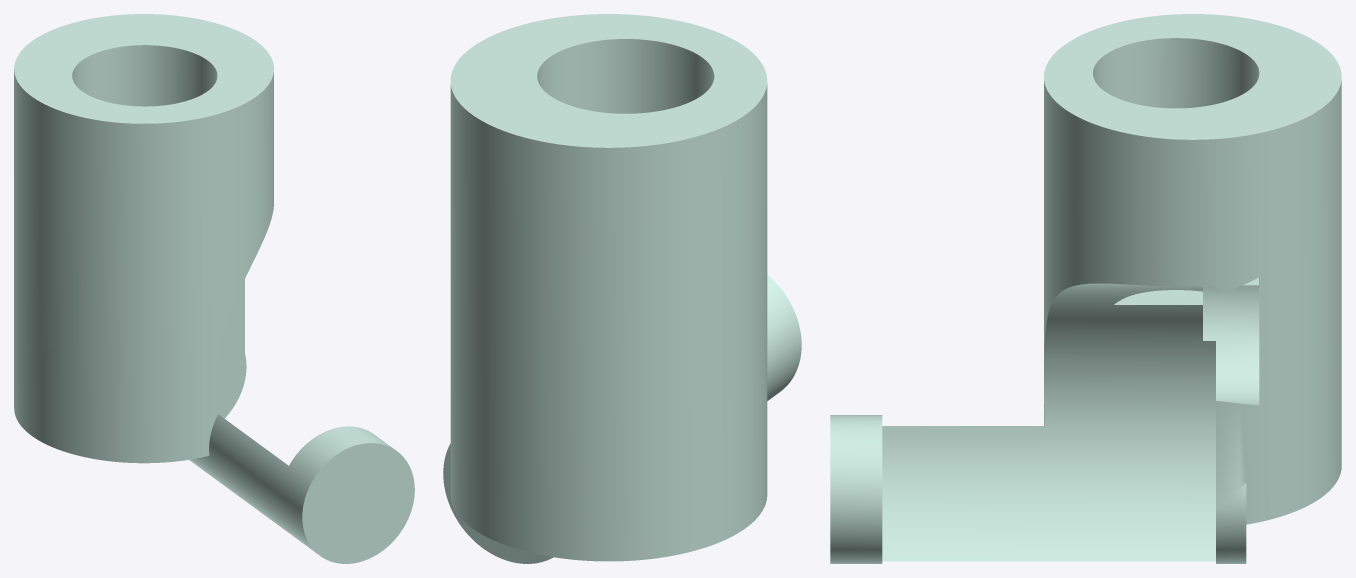
The picture shows the model from 3 angles, left to right: view 1: azimuth 30°, elevation 25°; view 2: azimuth 150°, elevation 25°; view 3: azimuth 270°, elevation 25°; orthographic projection. The views are drawn at different scales.
Parts seen in each view (by area): view 1: Renderer Node; view 2: Renderer Node; view 3: Renderer Node.
Boxes of the visible parts, box(x1,y1,x2,y2) form: Renderer Node: box(14, 14, 414, 563); Renderer Node: box(443, 14, 801, 563); Renderer Node: box(830, 14, 1341, 563).
Size of the model in its own units: 0.5368 by 0.892 by 0.9219.
